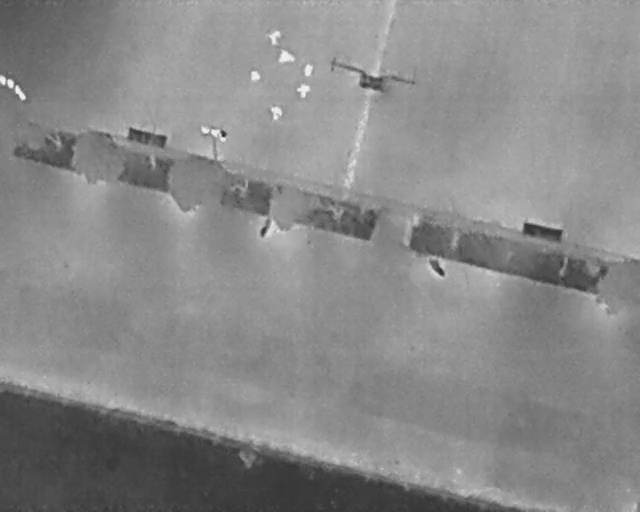Person: (278, 48, 295, 63), (296, 82, 311, 98), (269, 30, 282, 46), (271, 105, 283, 120), (304, 62, 314, 78), (250, 70, 261, 81)
